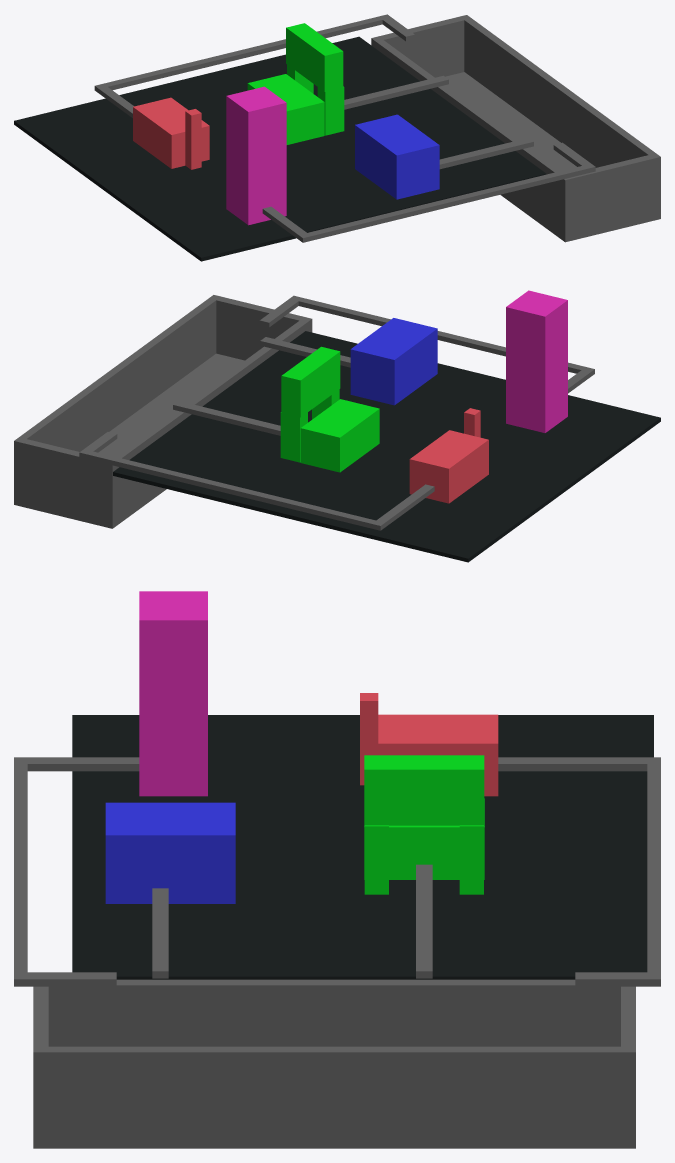
File: Blocking_JAM.fbx
3 renders of one model, top to bottom at view 1: azimuth 30°, elevation 25°; view 2: azimuth 150°, elevation 25°; view 3: azimuth 270°, elevation 25°, orthographic. The views are drawn at different scales.
Parts seen in each view (by area): view 1: Cube, Cube.012, Cube.001, Cube.009, Cube.004, Cube.002, Cube.007, Cube.008, Cube.011, Cube.005, Cube.003, Cube.010; view 2: Cube, Cube.012, Cube.001, Cube.009, Cube.004, Cube.008, Cube.002, Cube.007, Cube.011, Cube.006, Cube.010, Cube.003; view 3: Cube, Cube.012, Cube.001, Cube.004, Cube.009, Cube.007, Cube.002, Cube.008, Cube.011, Cube.005, Cube.006, Cube.010 (+1 smaller).
Boxes of the visible parts, x1,y1,x2,y2 form: Cube: [14, 36, 546, 261]; Cube.012: [371, 15, 660, 242]; Cube.001: [226, 86, 286, 225]; Cube.009: [94, 14, 595, 242]; Cube.004: [355, 114, 439, 199]; Cube.002: [133, 97, 209, 168]; Cube.007: [286, 23, 343, 91]; Cube.008: [247, 74, 324, 144]; Cube.011: [344, 75, 448, 109]; Cube.005: [317, 86, 344, 135]; Cube.003: [185, 109, 201, 169]; Cube.010: [439, 138, 533, 169]; Cube: [113, 331, 660, 562]; Cube.012: [14, 295, 312, 528]; Cube.001: [506, 290, 567, 432]; Cube.009: [79, 295, 594, 530]; Cube.004: [350, 318, 437, 405]; Cube.008: [300, 399, 379, 472]; Cube.002: [409, 430, 488, 503]; Cube.007: [281, 346, 340, 417]; Cube.011: [173, 401, 280, 435]; Cube.006: [280, 412, 307, 462]; Cube.010: [260, 337, 350, 367]; Cube.003: [464, 408, 480, 437]; Cube: [72, 715, 653, 979]; Cube.012: [33, 979, 635, 1148]; Cube.001: [139, 591, 207, 796]; Cube.004: [105, 802, 235, 903]; Cube.009: [14, 757, 660, 986]; Cube.007: [364, 755, 484, 825]; Cube.002: [378, 714, 498, 796]; Cube.008: [364, 798, 484, 879]; Cube.011: [416, 864, 432, 978]; Cube.005: [364, 825, 388, 894]; Cube.006: [459, 825, 483, 894]; Cube.010: [152, 888, 168, 978].
Bounding box in the file's own units: 12877 × 4795 × 10386.
